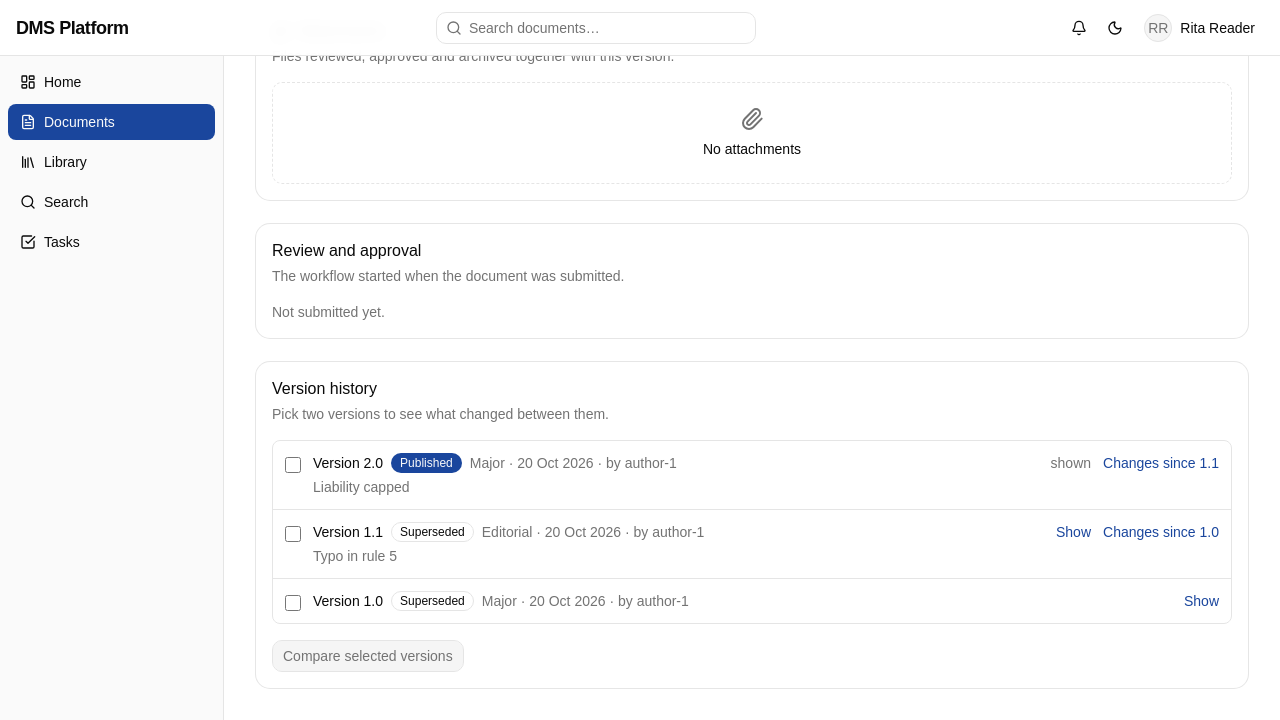
Version history › compares two picked versions, the older one first
(page scrolled)
Check: the button "Compare selected versions" is disabled, box [272,640,464,672]
Click the checkbox labelled "Version 2.0". click: (293, 465)
box: [285,457,301,473]
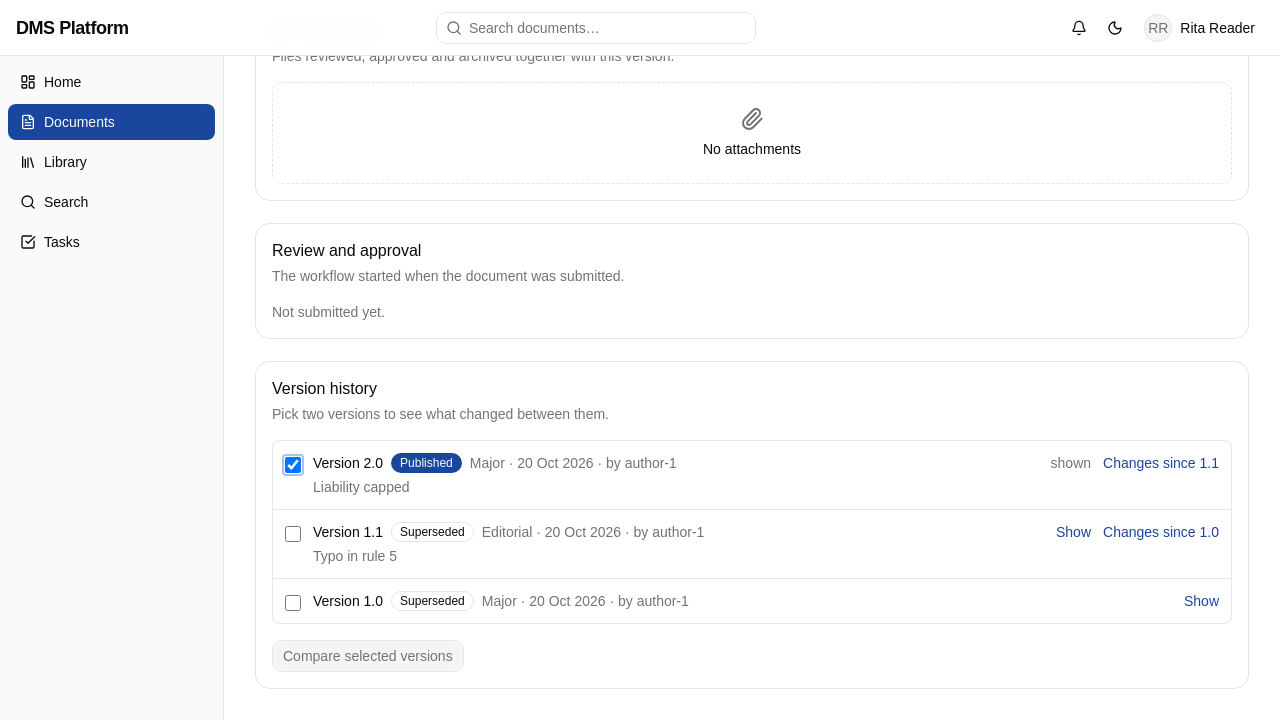
Check: the button "Compare selected versions" is disabled, box [272,640,464,672]
Click the checkbox labelled "Version 1.0". click: (293, 603)
box: [285,595,301,611]
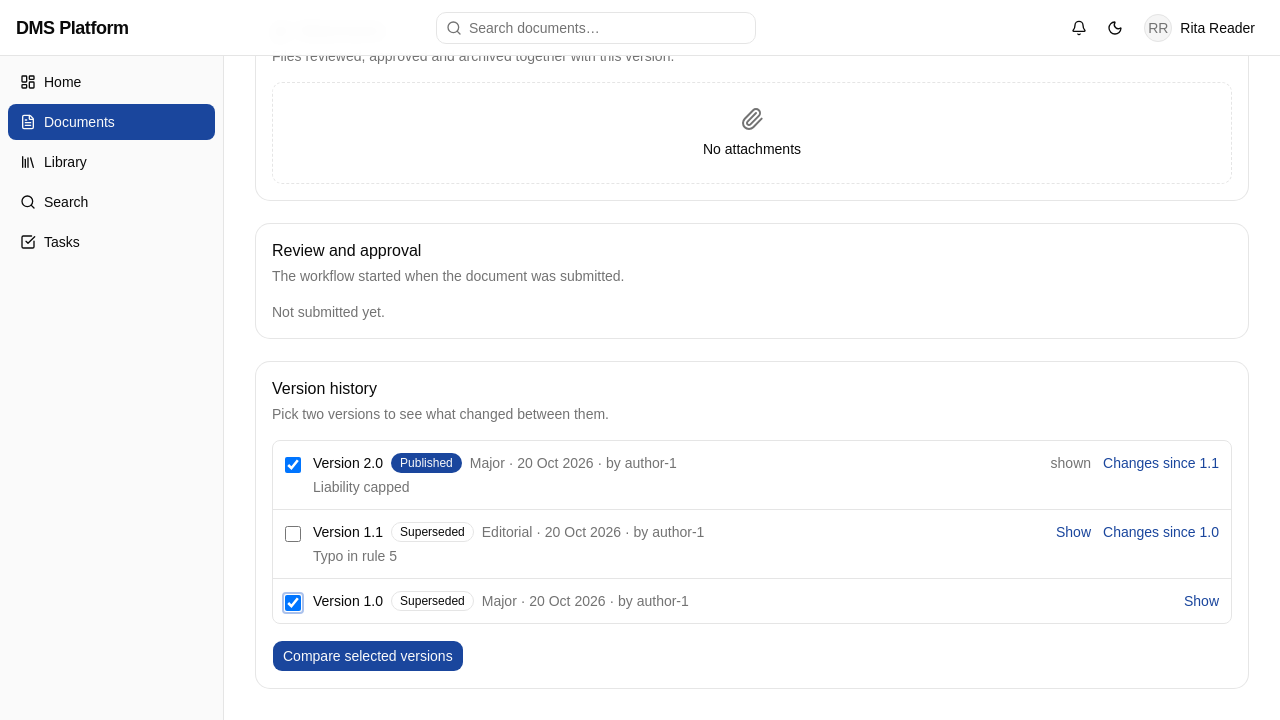
Click the button "Compare selected versions". click: (368, 656)
box: [272,640,464,672]
(page scrolled)
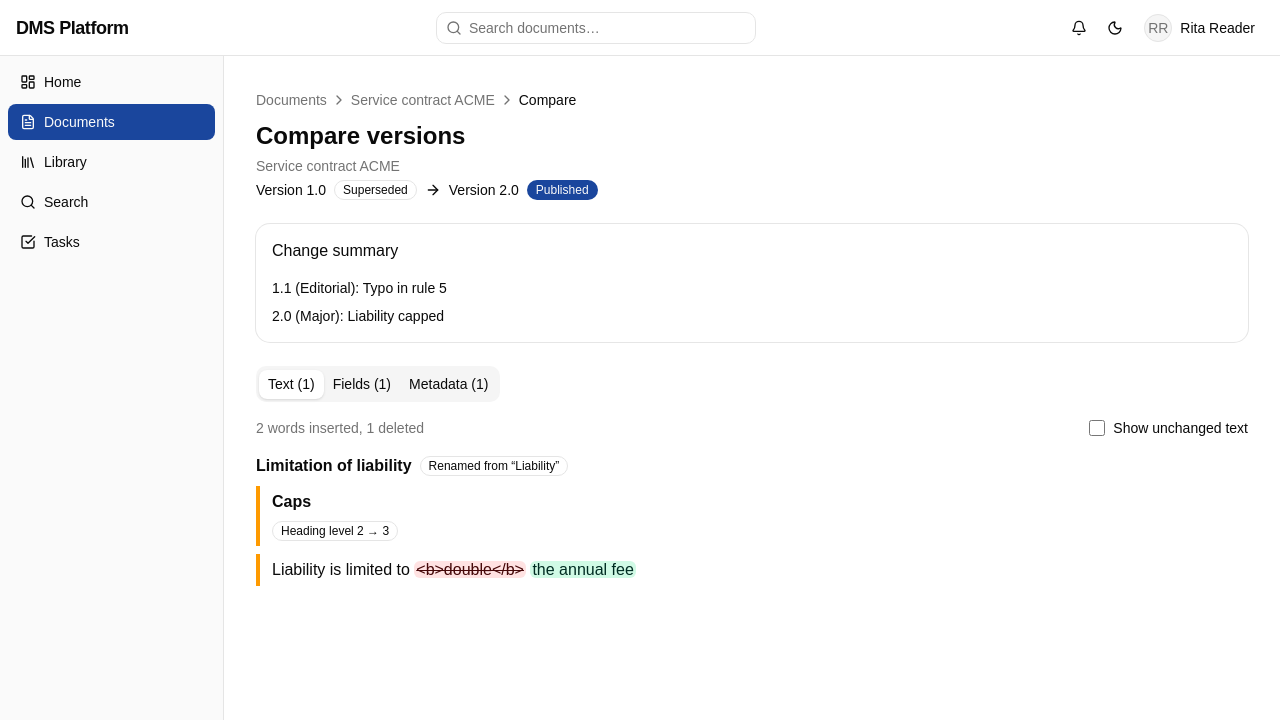
Check: the heading "Compare versions" is shown, box [256,122,465,149]
